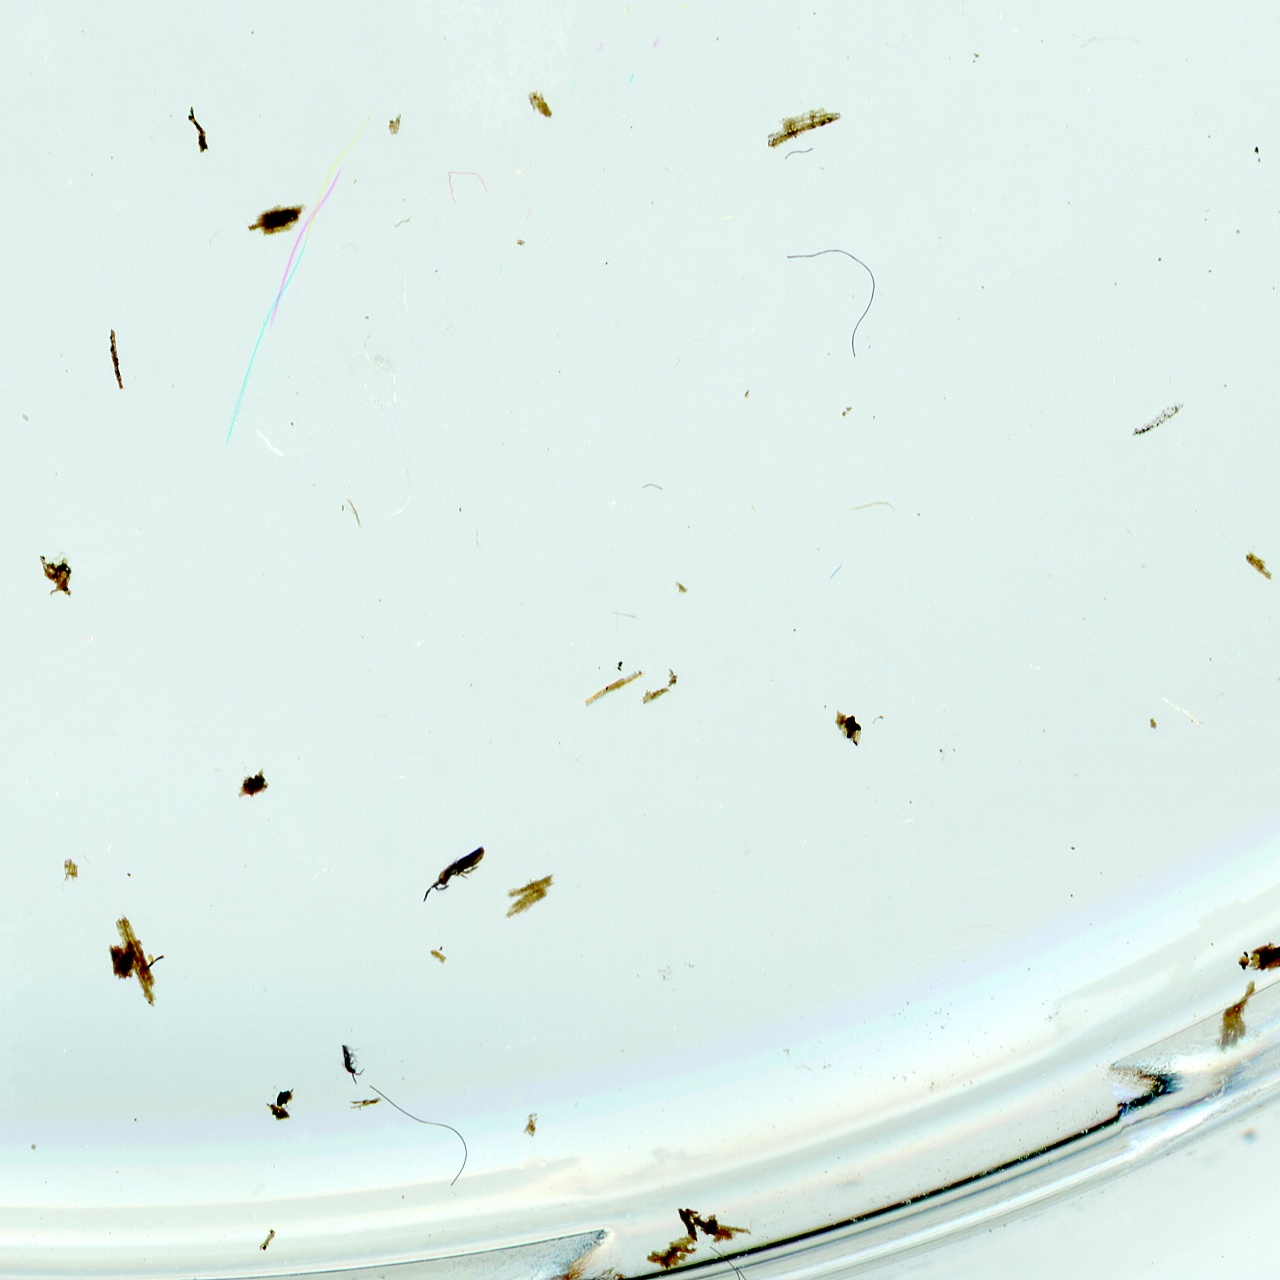arthropod: (409, 833, 499, 913), (338, 1039, 367, 1088)
